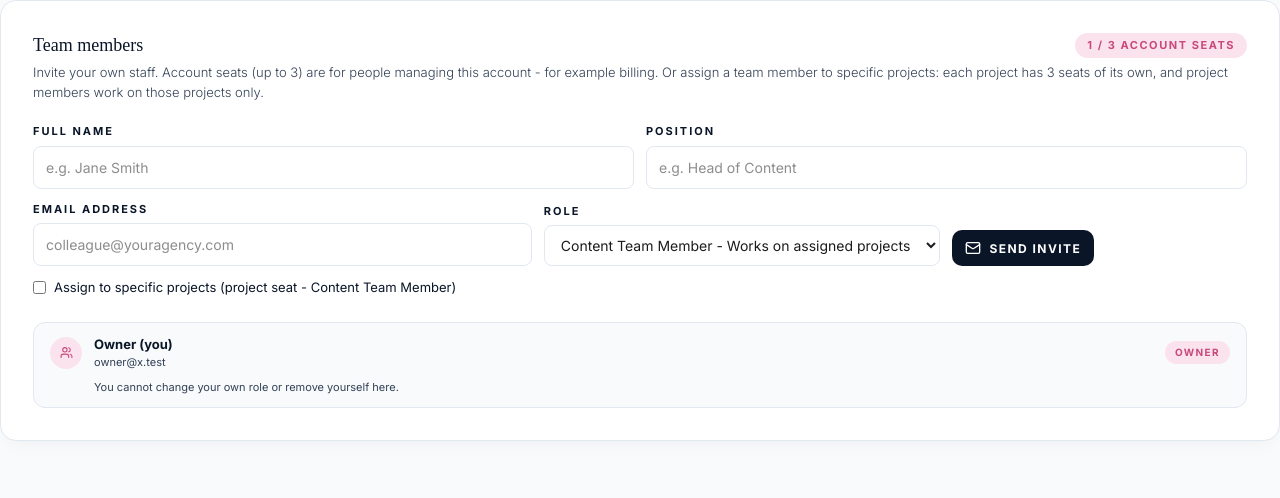
Test: TeamSection team modes › direct clients receive the full Agency Partner team controls
The image size is (1280, 498).
Expected: the text "1 / 3 account seats" is shown, [1075,33,1247,58]
Expected: the dropdown labelled "Role" is shown, [544,225,940,266]
Click the checkbox.
click(40, 288)  # box [33,281,46,294]
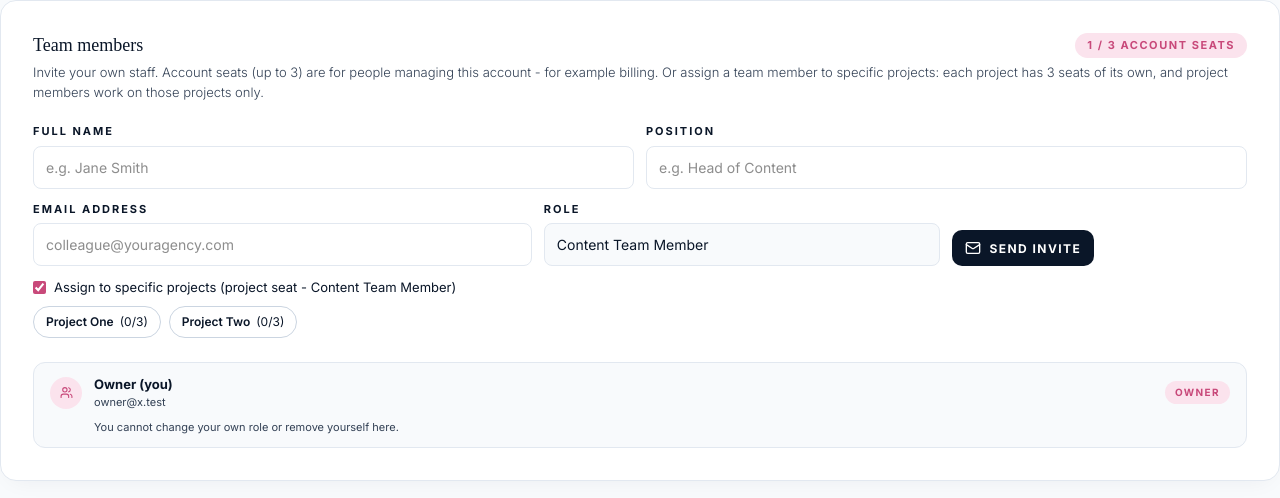
Result: the text "Content Team Member" is shown at [544,223,940,266]
Result: the checkbox "Project One" is shown at [46,314,114,329]
Result: the checkbox "Project Two" is shown at [182,314,250,329]
